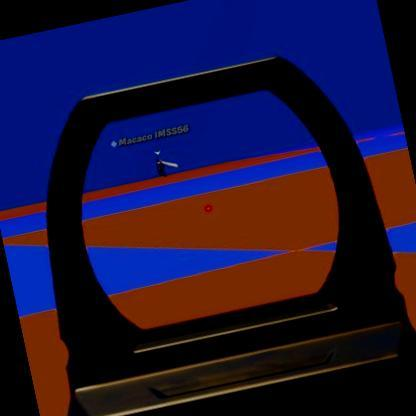person: (154, 156, 171, 177)
